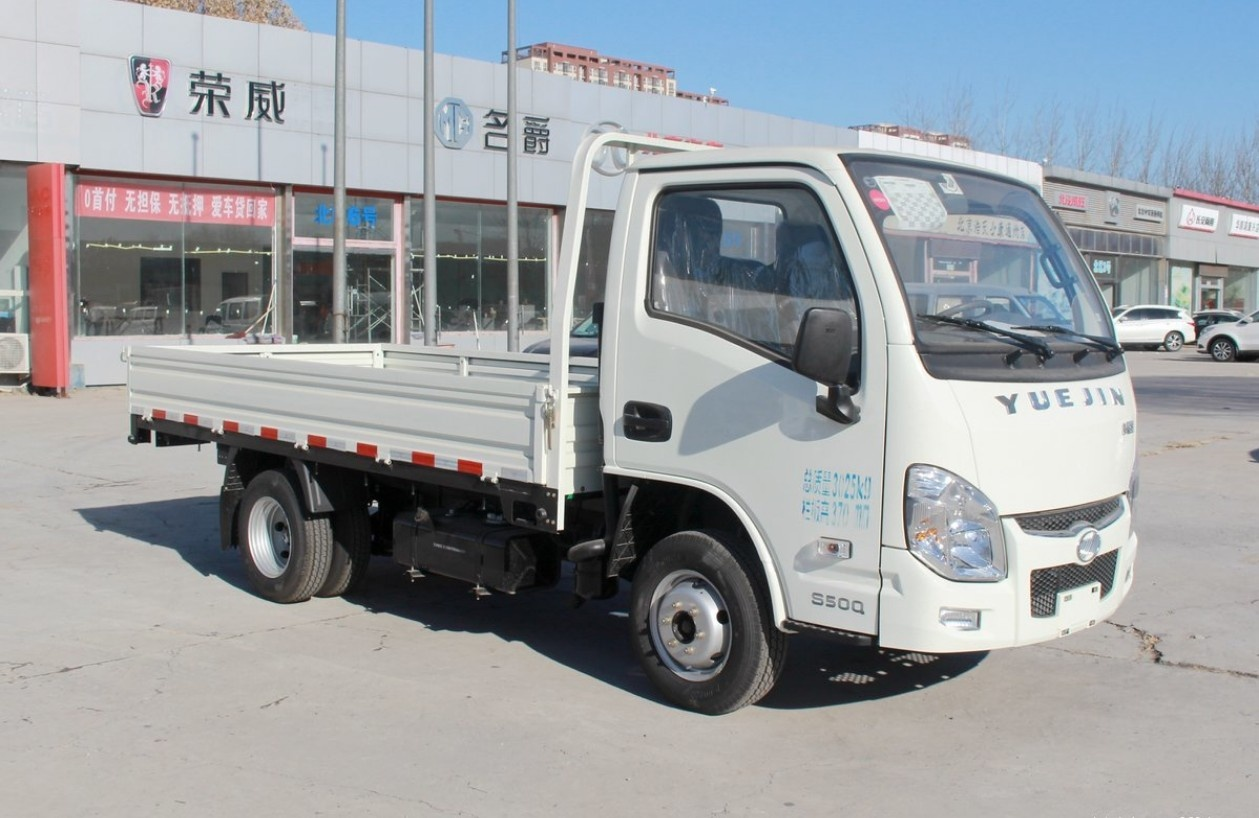truck: (77, 117, 1142, 705)
